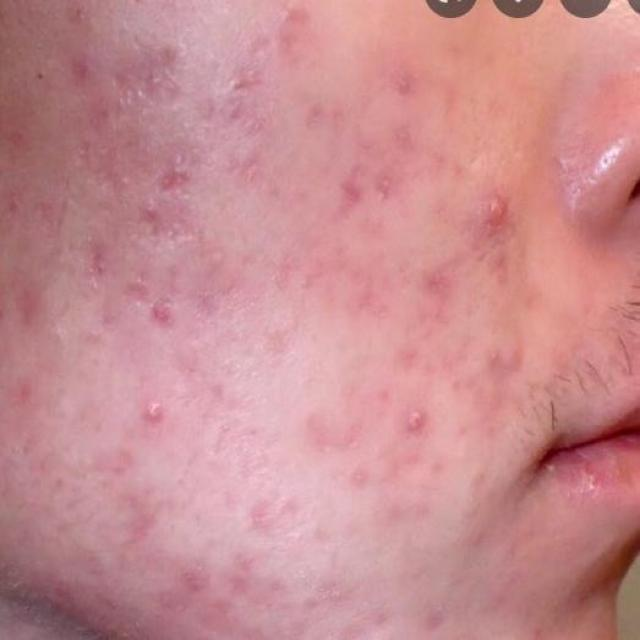8: (465, 176, 531, 238), (120, 194, 171, 243), (68, 27, 98, 100)
9: (126, 385, 177, 443), (398, 403, 437, 440)
blackheads: (323, 162, 401, 223), (146, 142, 222, 204), (138, 284, 192, 330), (413, 259, 468, 302)
